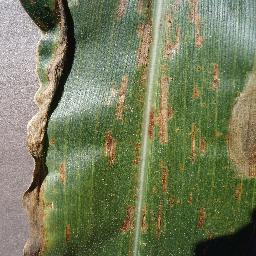Gray_Leaf_Spot: (16, 0, 77, 256), (146, 0, 184, 145), (224, 69, 256, 207), (116, 202, 164, 239), (135, 0, 155, 76), (181, 0, 207, 47), (110, 73, 131, 124), (192, 205, 219, 243), (100, 129, 121, 170), (188, 122, 210, 160), (157, 157, 174, 200), (206, 63, 225, 97), (111, 0, 130, 18), (189, 84, 203, 102), (190, 187, 197, 210)
